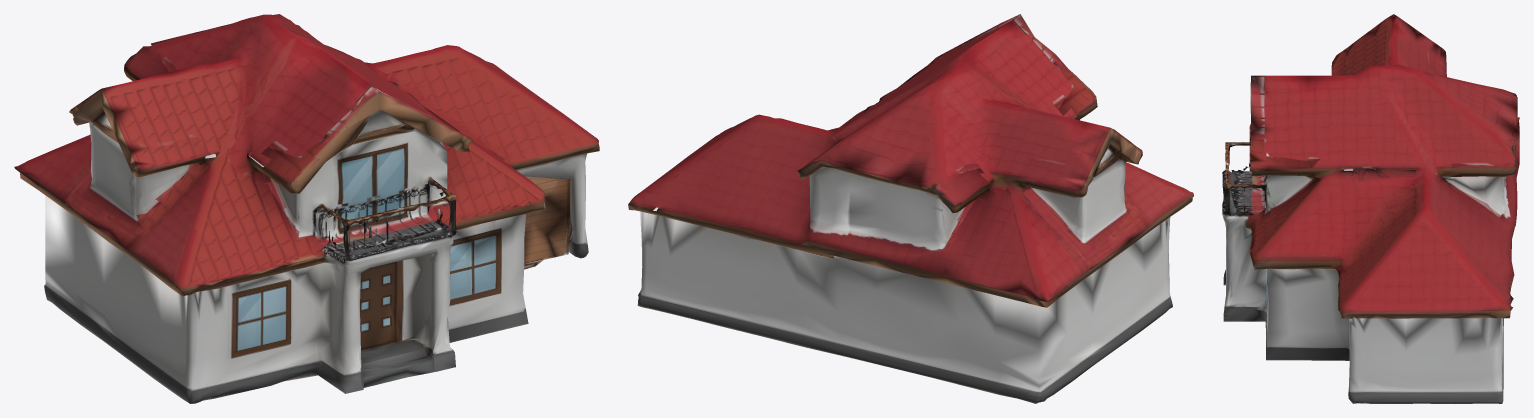
File: Meshy_AI_ev2_0112155056_texture.fbx
3 renders of one model, left to right at view 1: azimuth 30°, elevation 25°; view 2: azimuth 150°, elevation 25°; view 3: azimuth 270°, elevation 25°, orthographic. The views are drawn at different scales.
Visible parts, largest first — view 1: Mesh0; view 2: Mesh0; view 3: Mesh0.
Boxes of the visible parts, box(x1,y1,x2,y2) form: Mesh0: box(14, 14, 599, 403); Mesh0: box(628, 14, 1193, 403); Mesh0: box(1222, 14, 1519, 403).
Bounding box in the file's own units: 191 × 108 × 128.
1 material, 1 textured.
